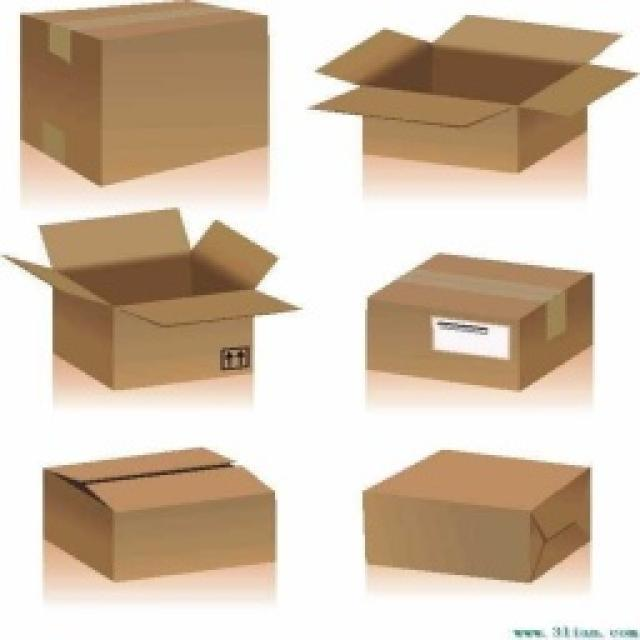box: (322, 6, 638, 184), (18, 194, 296, 396), (21, 6, 285, 177), (28, 447, 318, 593), (360, 232, 618, 396), (351, 442, 633, 588)
